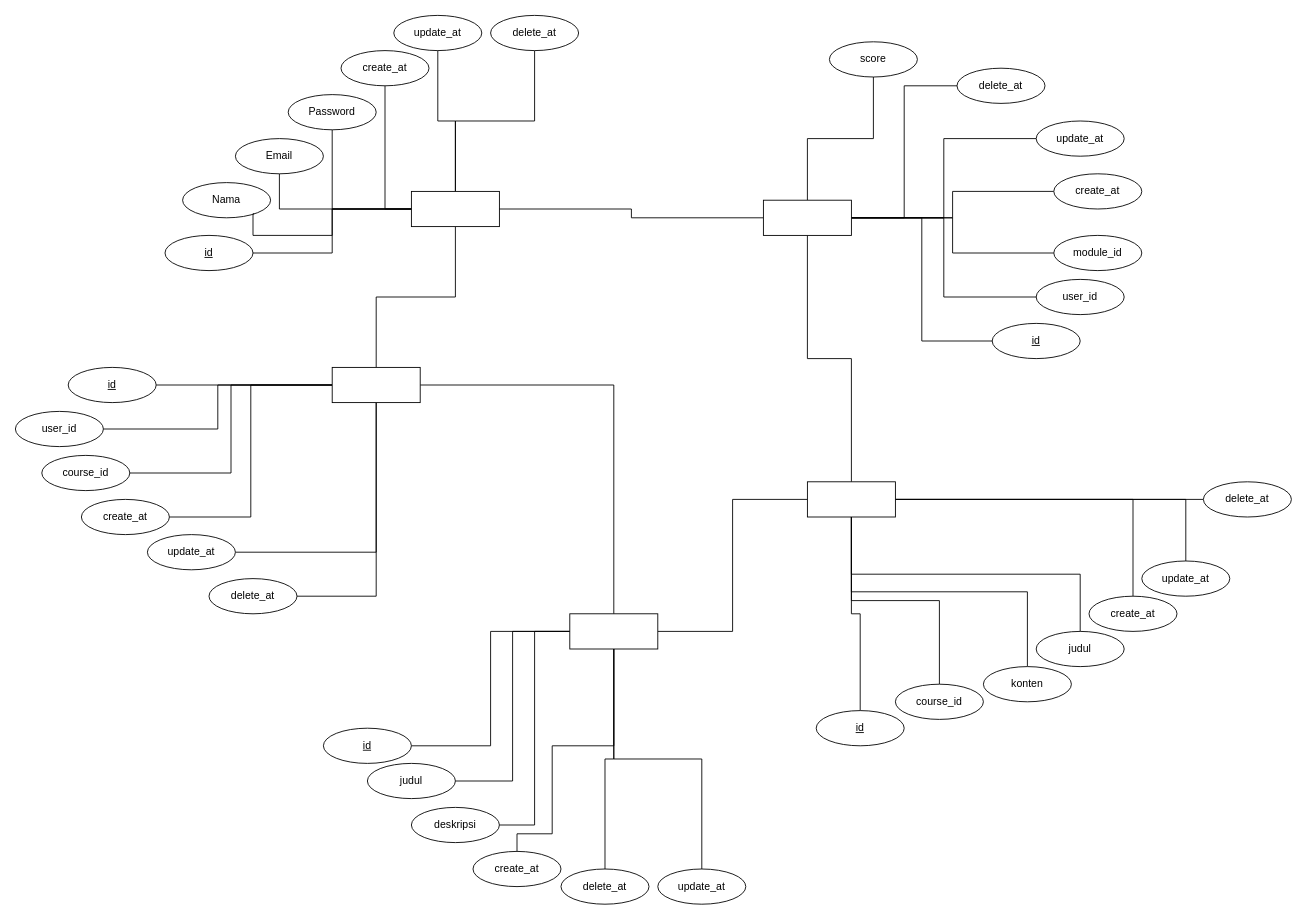
Image size: 1307x920. Some labels were removed from this diagram. The shapes that lost their labels are listed below. From the top down, each one's centre as x and y in pixels, then its label:
At [455,209]: "User".
At [807,217]: "Grade".
At [375,385]: "Enrollment".
At [851,499]: "Module".
At [613,631]: "Course".
